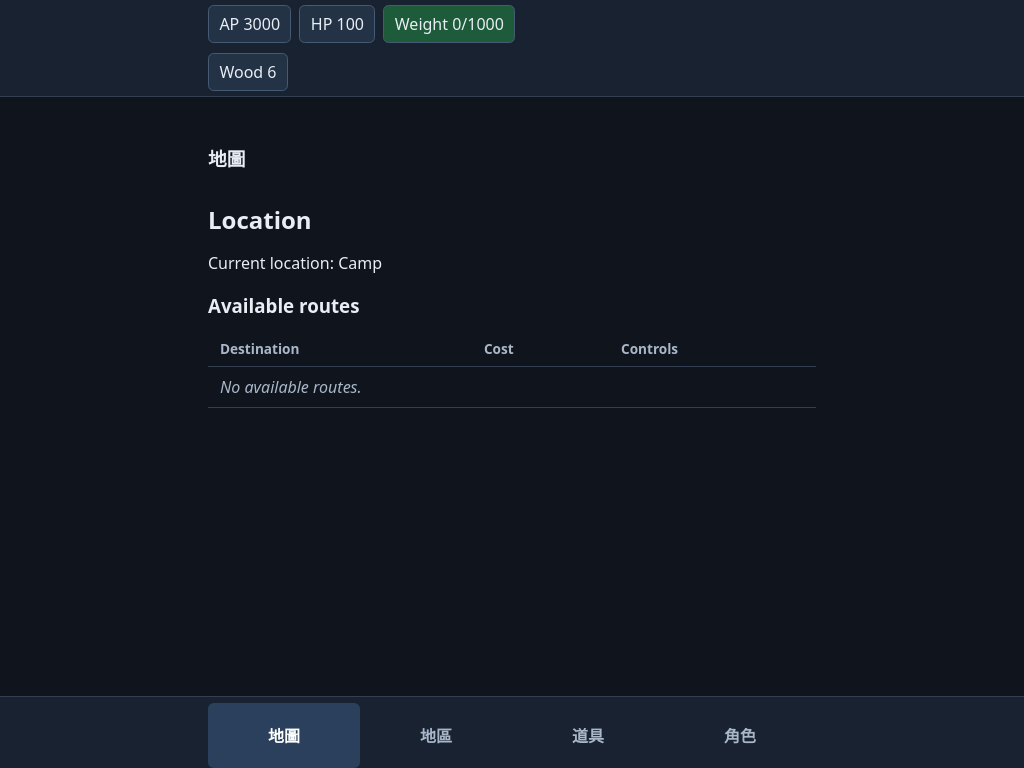
Test: App gameplay tab integration › assigns Inventory, eight Resources, Drops, provider Convert, and Craft to Items
The width and height of the screenshot is (1024, 768).
Expected: the heading "地圖" is shown, [208,146,245,171]
Click the button "道具" at x=588, y=735, box [512,703,664,767]
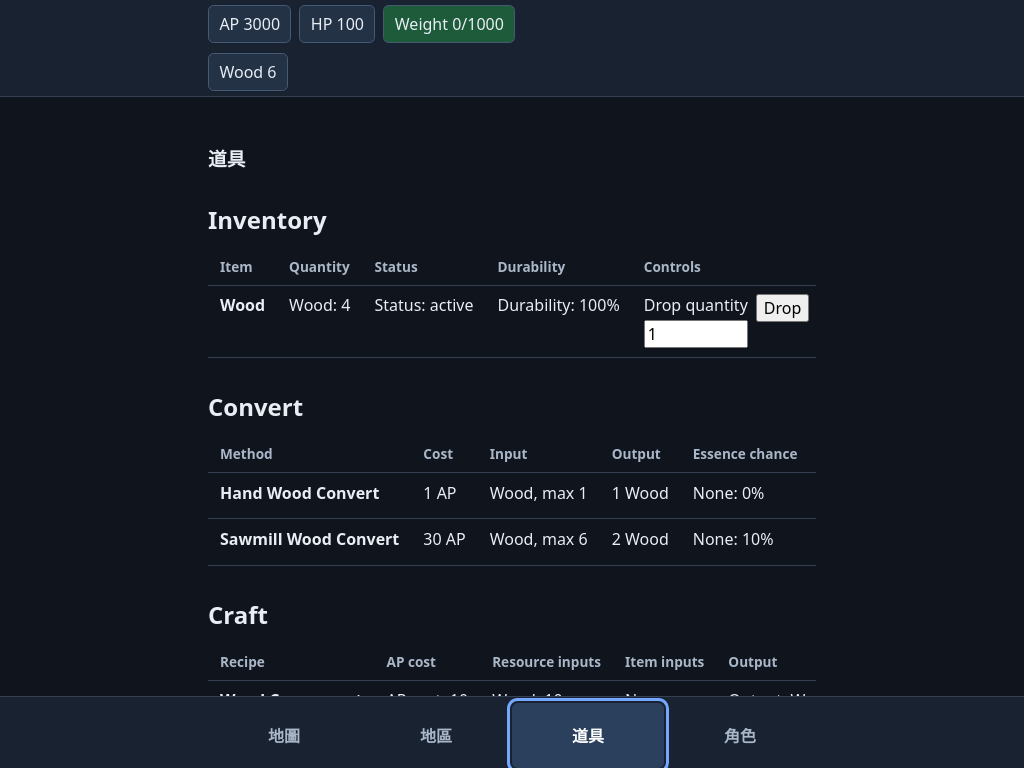
Expected: the heading "道具" is shown, [208,146,245,171]
Expected: the table named "Inventory" shows "Wood: 4", [208,248,816,358]
Expected: the table "Convert" shows "Hand Wood Convert", [220,482,379,504]
